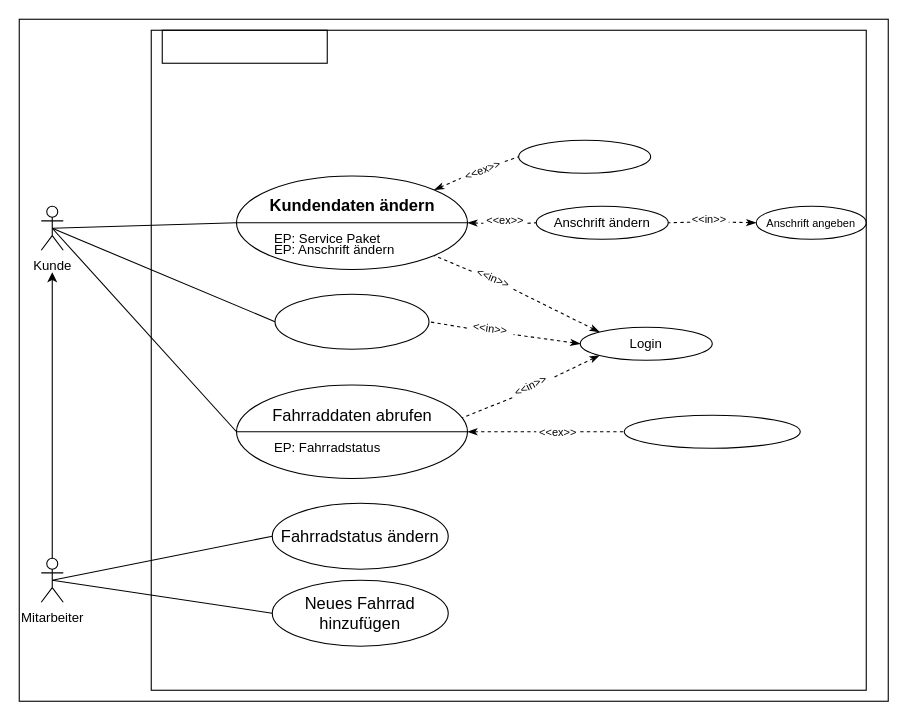
Some shapes in this 908 by 721 pixel diagram are drawn without their labels. The box of each missing label's shape, as (x1, y1, x2, y2) in pixels:
Fahrrad Werkstatt: (161, 29, 327, 63)
Fahrradstatus abrufen: (623, 414, 800, 448)
Kontodaten abrufen: (274, 293, 429, 349)
Service Paket: (518, 139, 651, 173)
